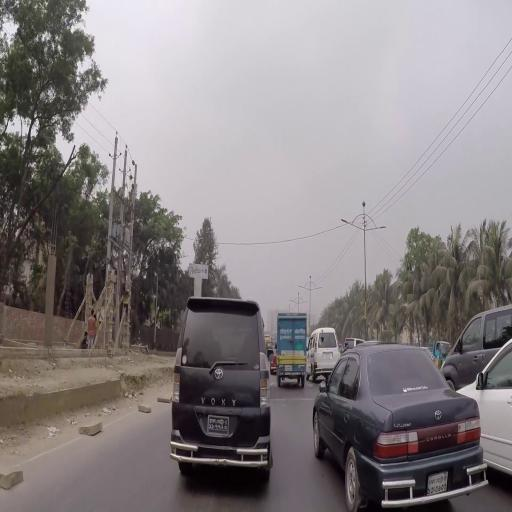car: (312, 338, 490, 503), (457, 340, 512, 478)
minivan: (173, 287, 277, 489), (443, 306, 512, 395)
pickup: (277, 307, 308, 392), (427, 329, 451, 362)
van: (309, 325, 343, 385)
